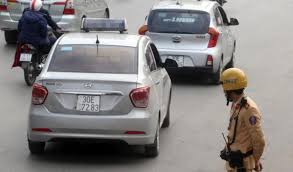Bien-so: (76, 95, 100, 112), (167, 55, 184, 68), (20, 53, 31, 62)
